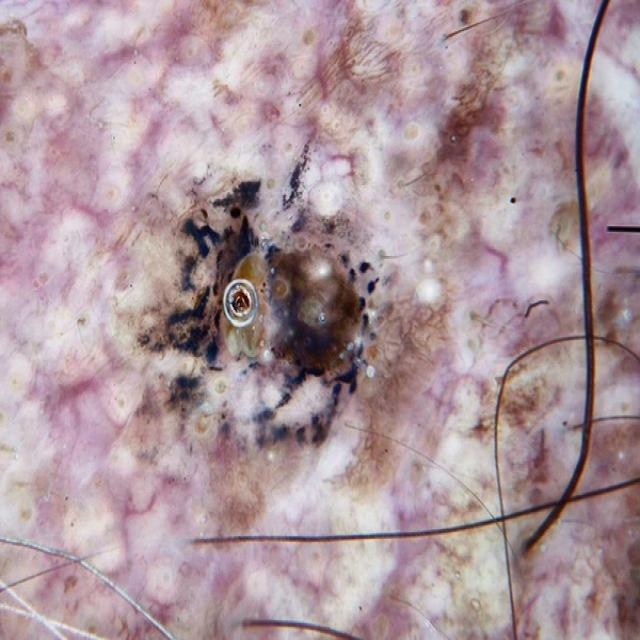Benign-Keratosis-like-Lesions-BKL-: (72, 76, 593, 590)
